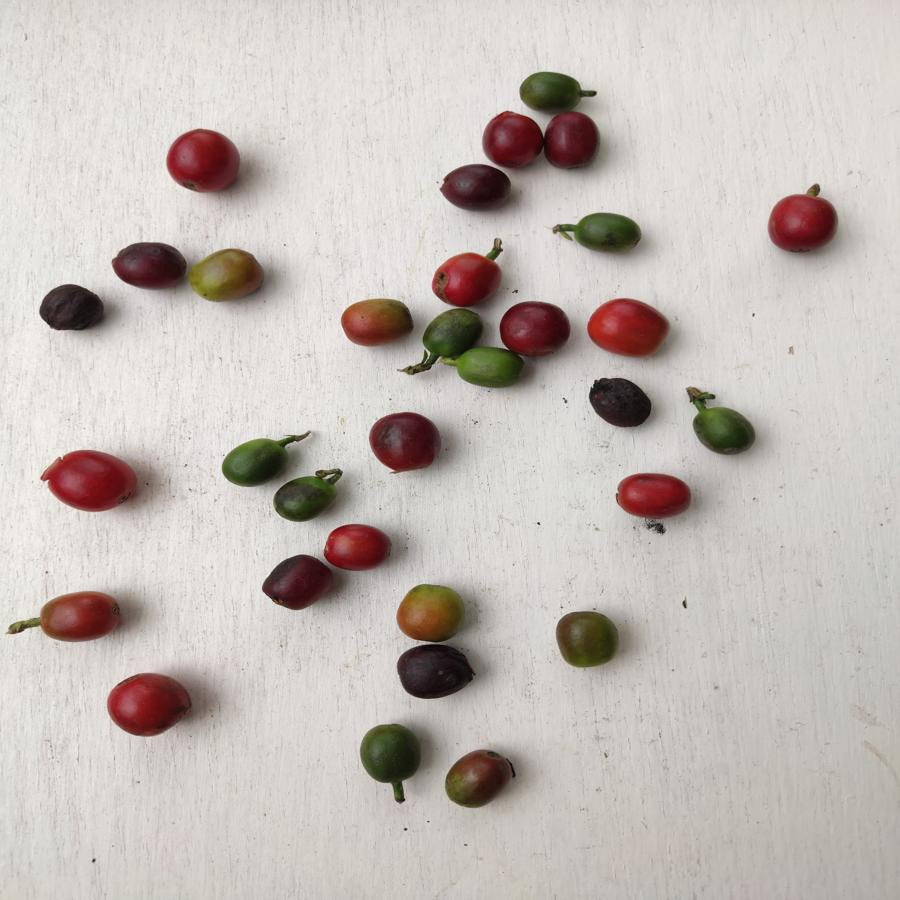Inmaduro: (360, 725, 424, 790), (688, 404, 757, 459), (573, 210, 648, 258), (223, 438, 286, 488), (422, 309, 485, 358), (518, 68, 586, 111), (456, 349, 526, 390), (275, 474, 337, 519)
Maduro: (42, 441, 140, 519), (108, 673, 192, 740), (36, 586, 125, 649), (165, 128, 243, 193), (588, 299, 671, 358), (765, 193, 839, 258), (613, 473, 696, 518), (430, 253, 501, 305), (325, 522, 393, 570)
Pinton: (444, 749, 515, 812), (396, 581, 467, 642), (190, 248, 265, 303), (555, 611, 623, 671), (335, 297, 414, 348)
Sobremaduro: (395, 646, 474, 704), (370, 411, 441, 473), (501, 298, 574, 354), (263, 554, 334, 611), (110, 240, 187, 292), (478, 112, 545, 169), (588, 373, 653, 430), (435, 165, 511, 212), (38, 283, 108, 332), (545, 113, 602, 171)
